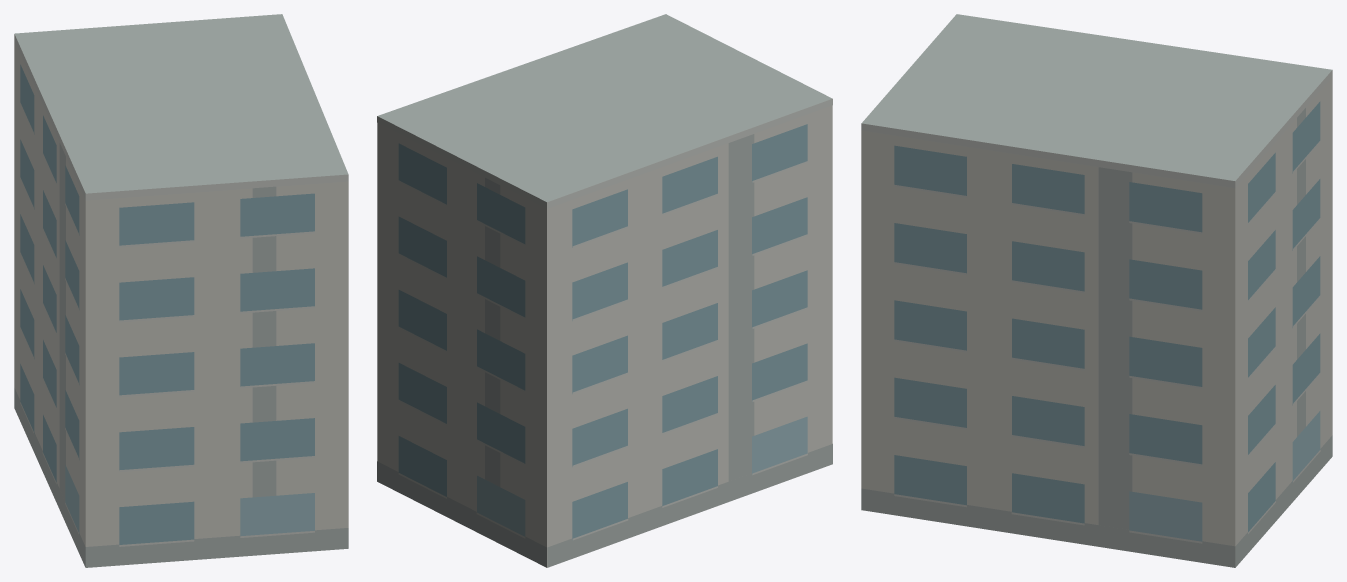
Rendered from survey-upis-32886858.glb.
3 renders of one model, left to right at view 1: azimuth 30°, elevation 25°; view 2: azimuth 150°, elevation 25°; view 3: azimuth 270°, elevation 25°, orthographic. The views are drawn at different scales.
Visible parts, largest first — view 1: survey-upis-32886858.tmp; view 2: survey-upis-32886858.tmp; view 3: survey-upis-32886858.tmp.
Boxes of the visible parts, left/top/right/bottom form: survey-upis-32886858.tmp: left=14, top=14, right=348, bottom=567; survey-upis-32886858.tmp: left=377, top=14, right=832, bottom=567; survey-upis-32886858.tmp: left=861, top=14, right=1332, bottom=567.
Bounding box in the file's own units: 12.34 × 13.3 × 14.69.
